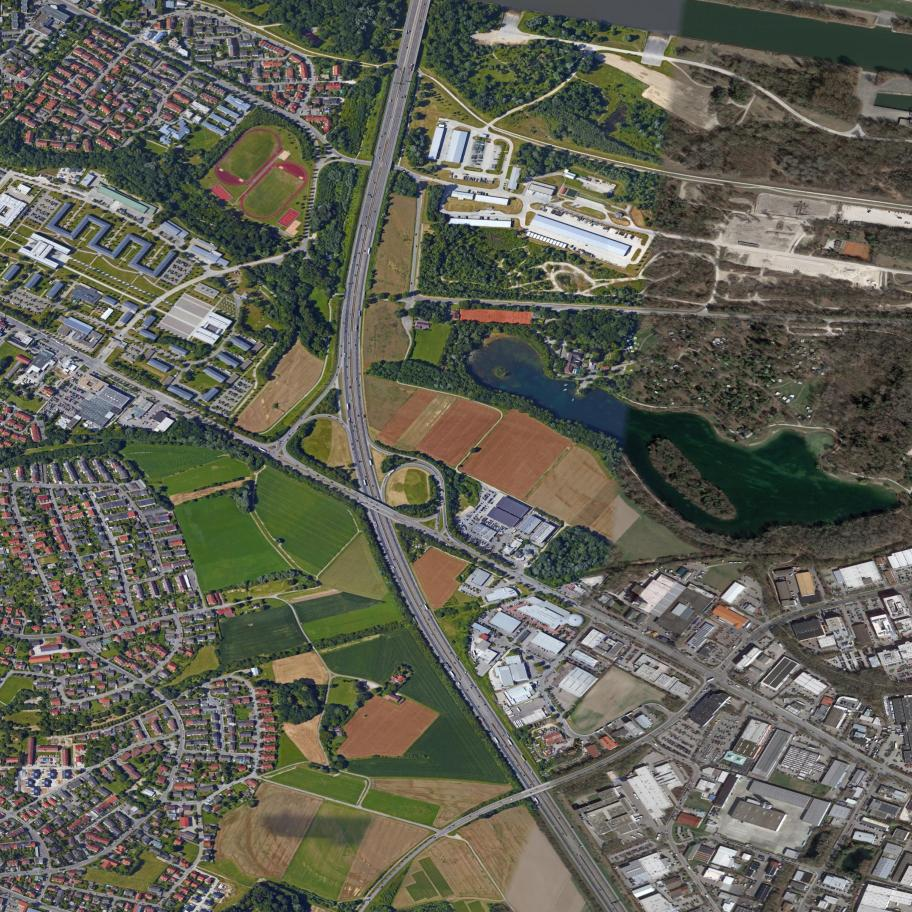large-vehicle: (56, 340, 65, 347), (69, 347, 79, 353), (493, 736, 500, 744), (387, 469, 395, 476), (625, 711, 634, 717), (259, 447, 267, 453), (797, 700, 805, 706), (520, 755, 526, 762), (746, 622, 752, 629), (534, 797, 540, 804), (507, 739, 513, 746), (707, 678, 715, 683), (808, 746, 817, 750), (638, 832, 645, 837), (634, 793, 639, 800), (450, 671, 455, 678), (631, 836, 639, 840), (656, 833, 660, 841), (424, 604, 429, 610), (295, 425, 301, 430), (455, 656, 460, 662), (363, 479, 367, 486), (346, 404, 350, 411), (634, 816, 643, 819), (607, 723, 613, 727), (367, 248, 370, 255), (506, 733, 510, 738), (699, 574, 704, 578), (698, 575, 703, 579), (736, 684, 741, 688), (600, 727, 605, 731), (369, 459, 372, 465), (564, 596, 570, 599), (810, 709, 814, 713), (457, 682, 461, 686), (796, 597, 799, 602), (701, 571, 706, 574), (596, 730, 601, 733), (883, 835, 886, 839), (358, 311, 360, 317), (355, 325, 357, 331), (895, 743, 897, 748), (344, 353, 346, 358)
small-vehicle: (289, 434, 291, 437), (336, 419, 339, 421), (336, 374, 338, 376), (328, 416, 331, 417), (358, 448, 359, 450), (356, 378, 357, 380)
